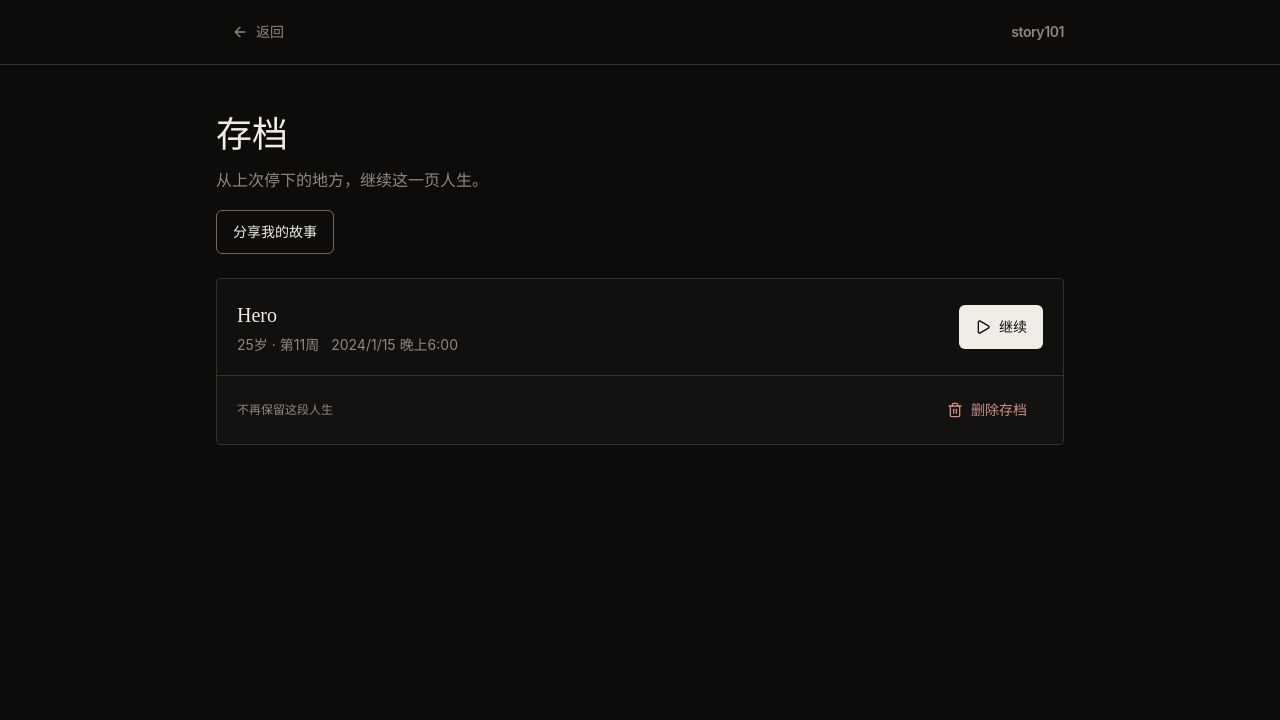
SavesPage › Delete game › opens delete confirmation dialog when clicking delete
Expected: the heading "Hero" is shown, left=237, top=304, right=277, bottom=326
Click the button "删除存档" at (987, 410), box left=931, top=388, right=1043, bottom=432
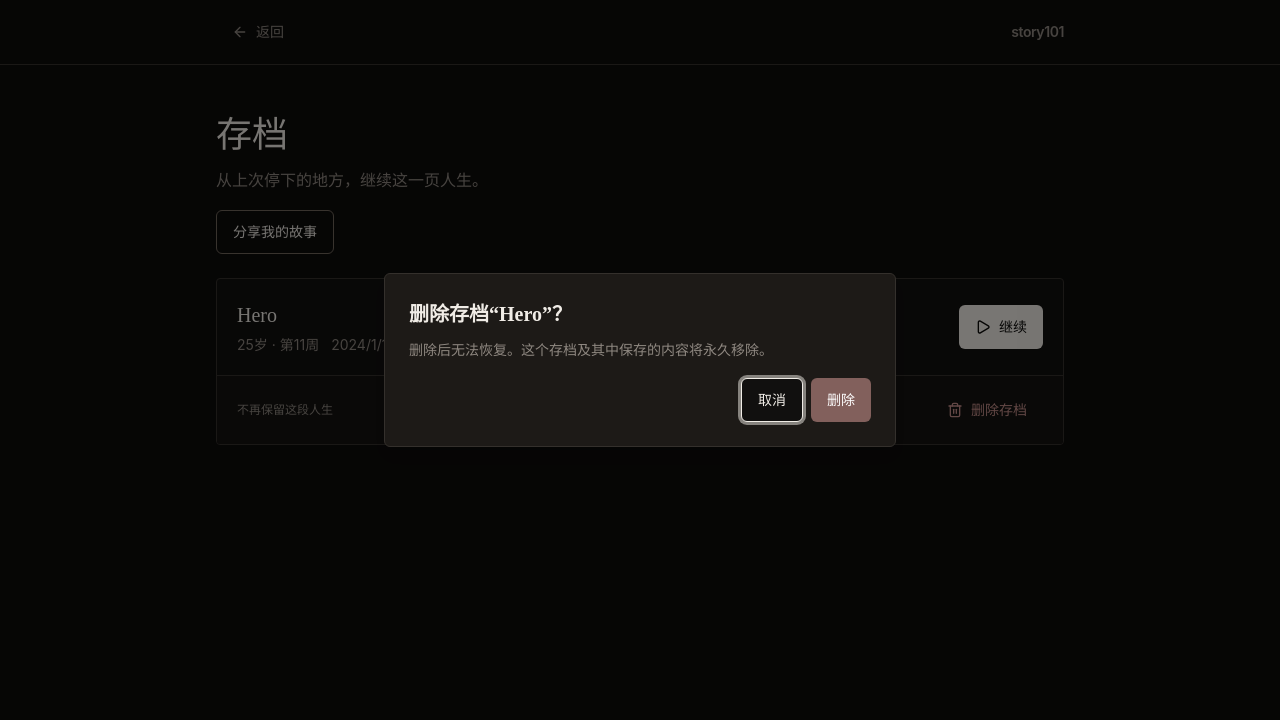
Expected: the heading "删除存档“Hero”？" is shown, left=409, top=303, right=572, bottom=325
